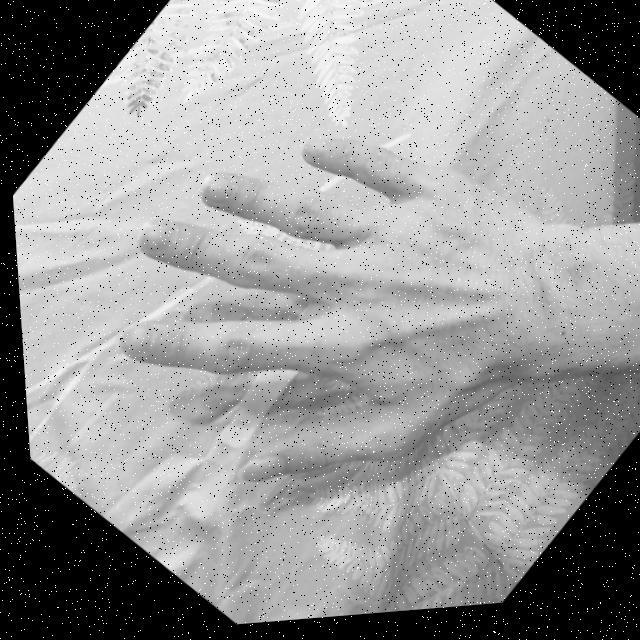no-gloves: (33, 14, 596, 584)
